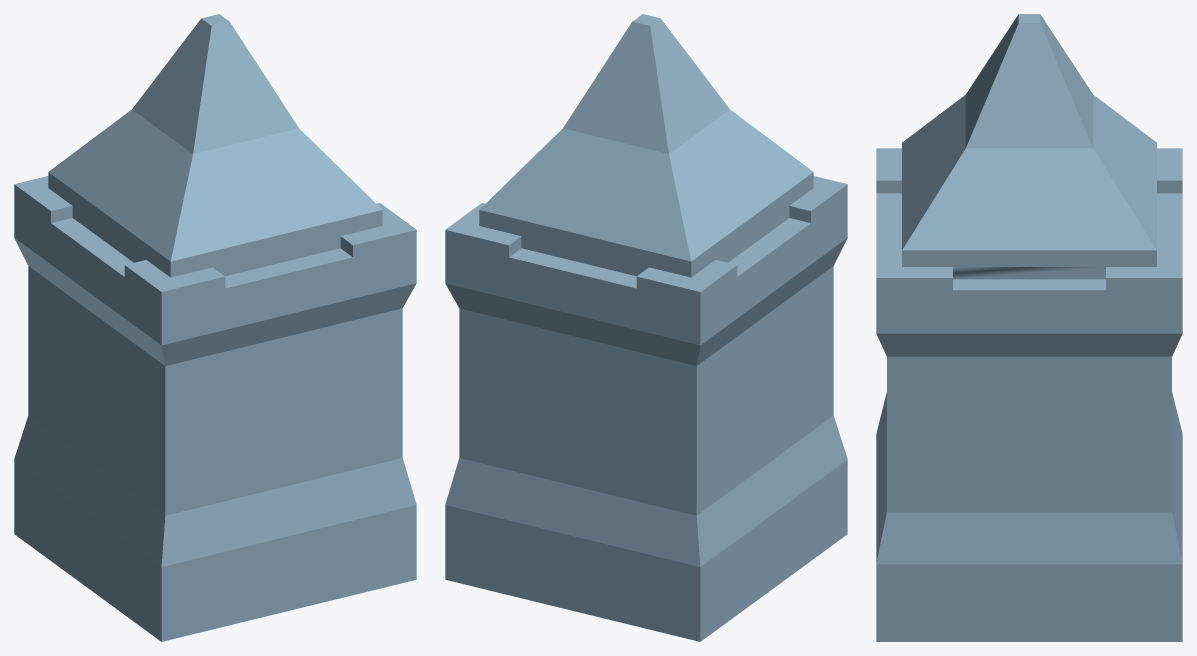
Rendered from towerSquareRoof.fbx.
3 views of the same model, side by side, from view 1: azimuth 30°, elevation 25°; view 2: azimuth 150°, elevation 25°; view 3: azimuth 270°, elevation 25° (orthographic). The views are drawn at different scales.
Visible parts, largest first — view 1: towerSquareRoof; view 2: towerSquareRoof; view 3: towerSquareRoof.
Part boxes in pixels (box(x1,y1,x2,y2)): towerSquareRoof: box(14, 14, 416, 641); towerSquareRoof: box(445, 14, 847, 641); towerSquareRoof: box(876, 14, 1182, 641).
Bounding box in the file's own units: 300 × 603 × 300.
